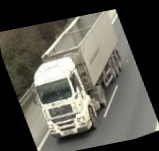truck: (13, 7, 148, 148)
